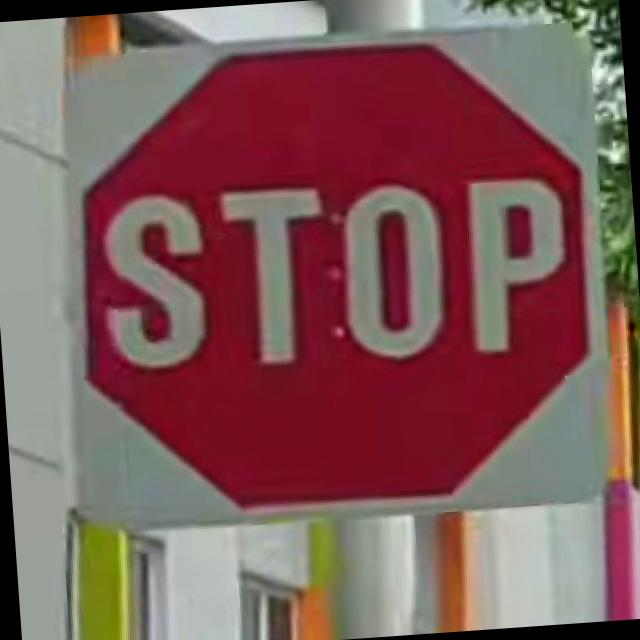mandatorystop_sign: (48, 14, 622, 532)
